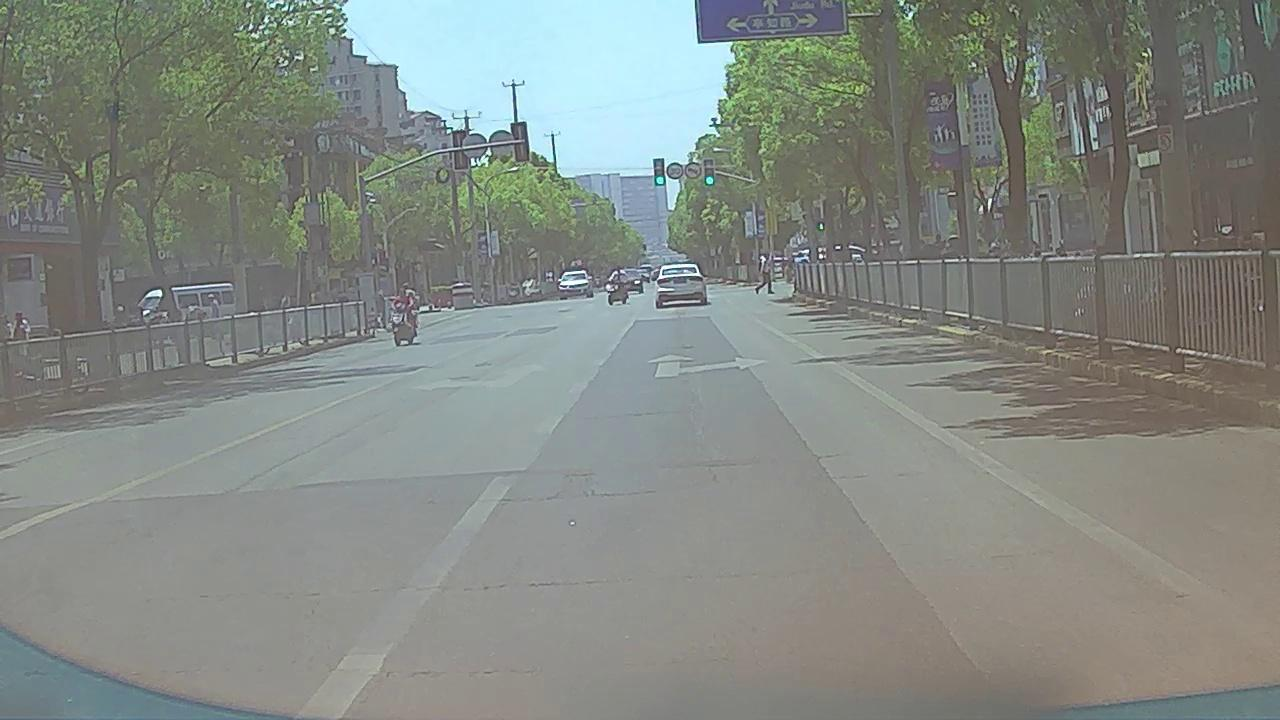traffic_light: (655, 159, 666, 185), (705, 160, 715, 185)
